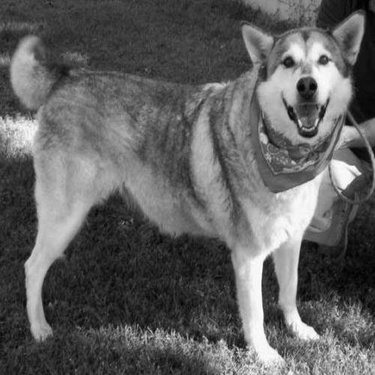dog: (9, 8, 370, 371)
